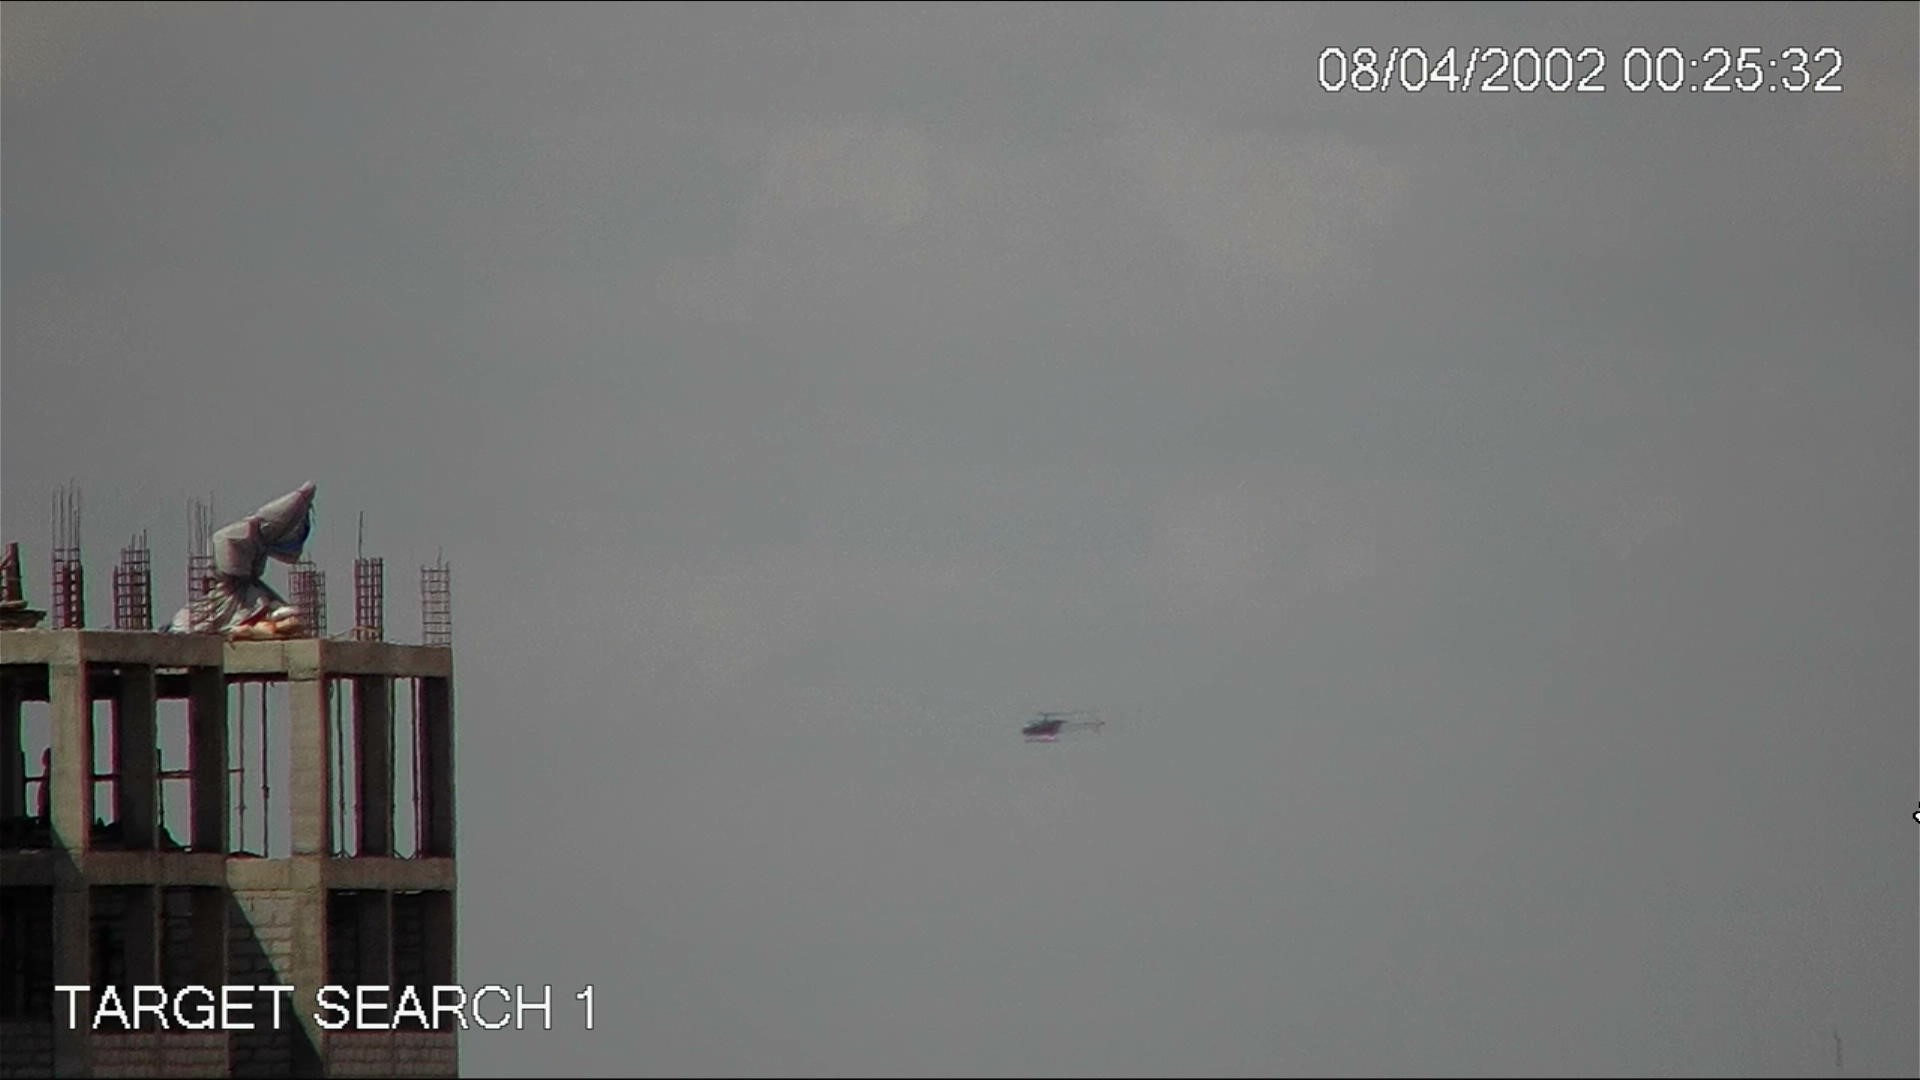SU_30: (1011, 702, 1106, 745)
